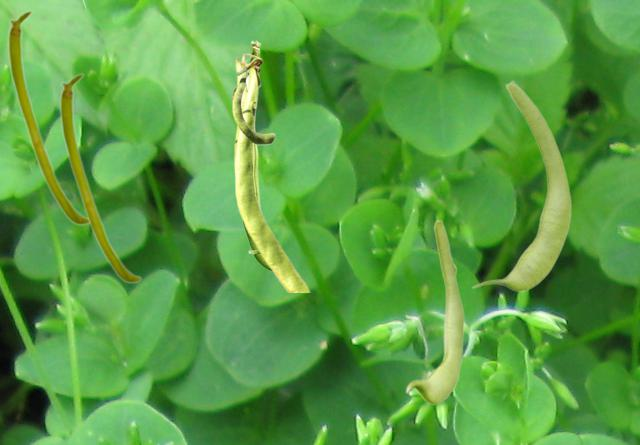french_bean: (471, 79, 571, 290), (231, 53, 309, 291), (7, 9, 88, 225), (59, 72, 141, 283), (405, 219, 463, 403), (241, 40, 271, 271)
